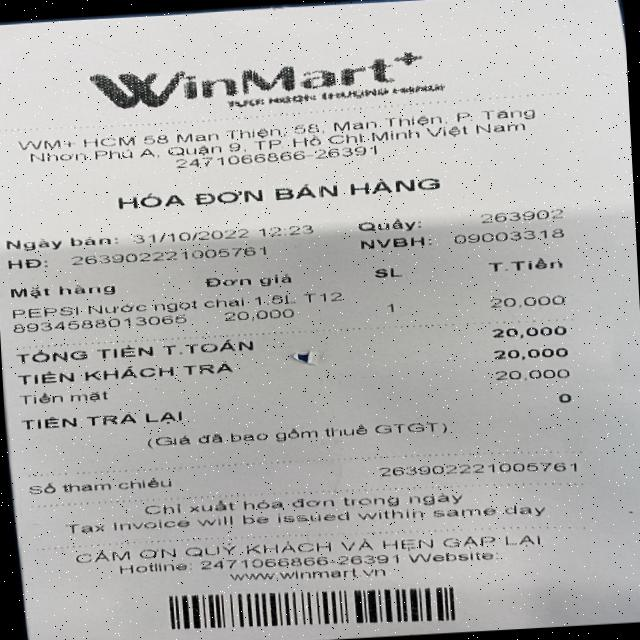Date: (126, 222, 253, 248)
Store_Name: (57, 42, 456, 114)
amount_number: (482, 323, 570, 343)
label_total: (14, 338, 263, 367)
